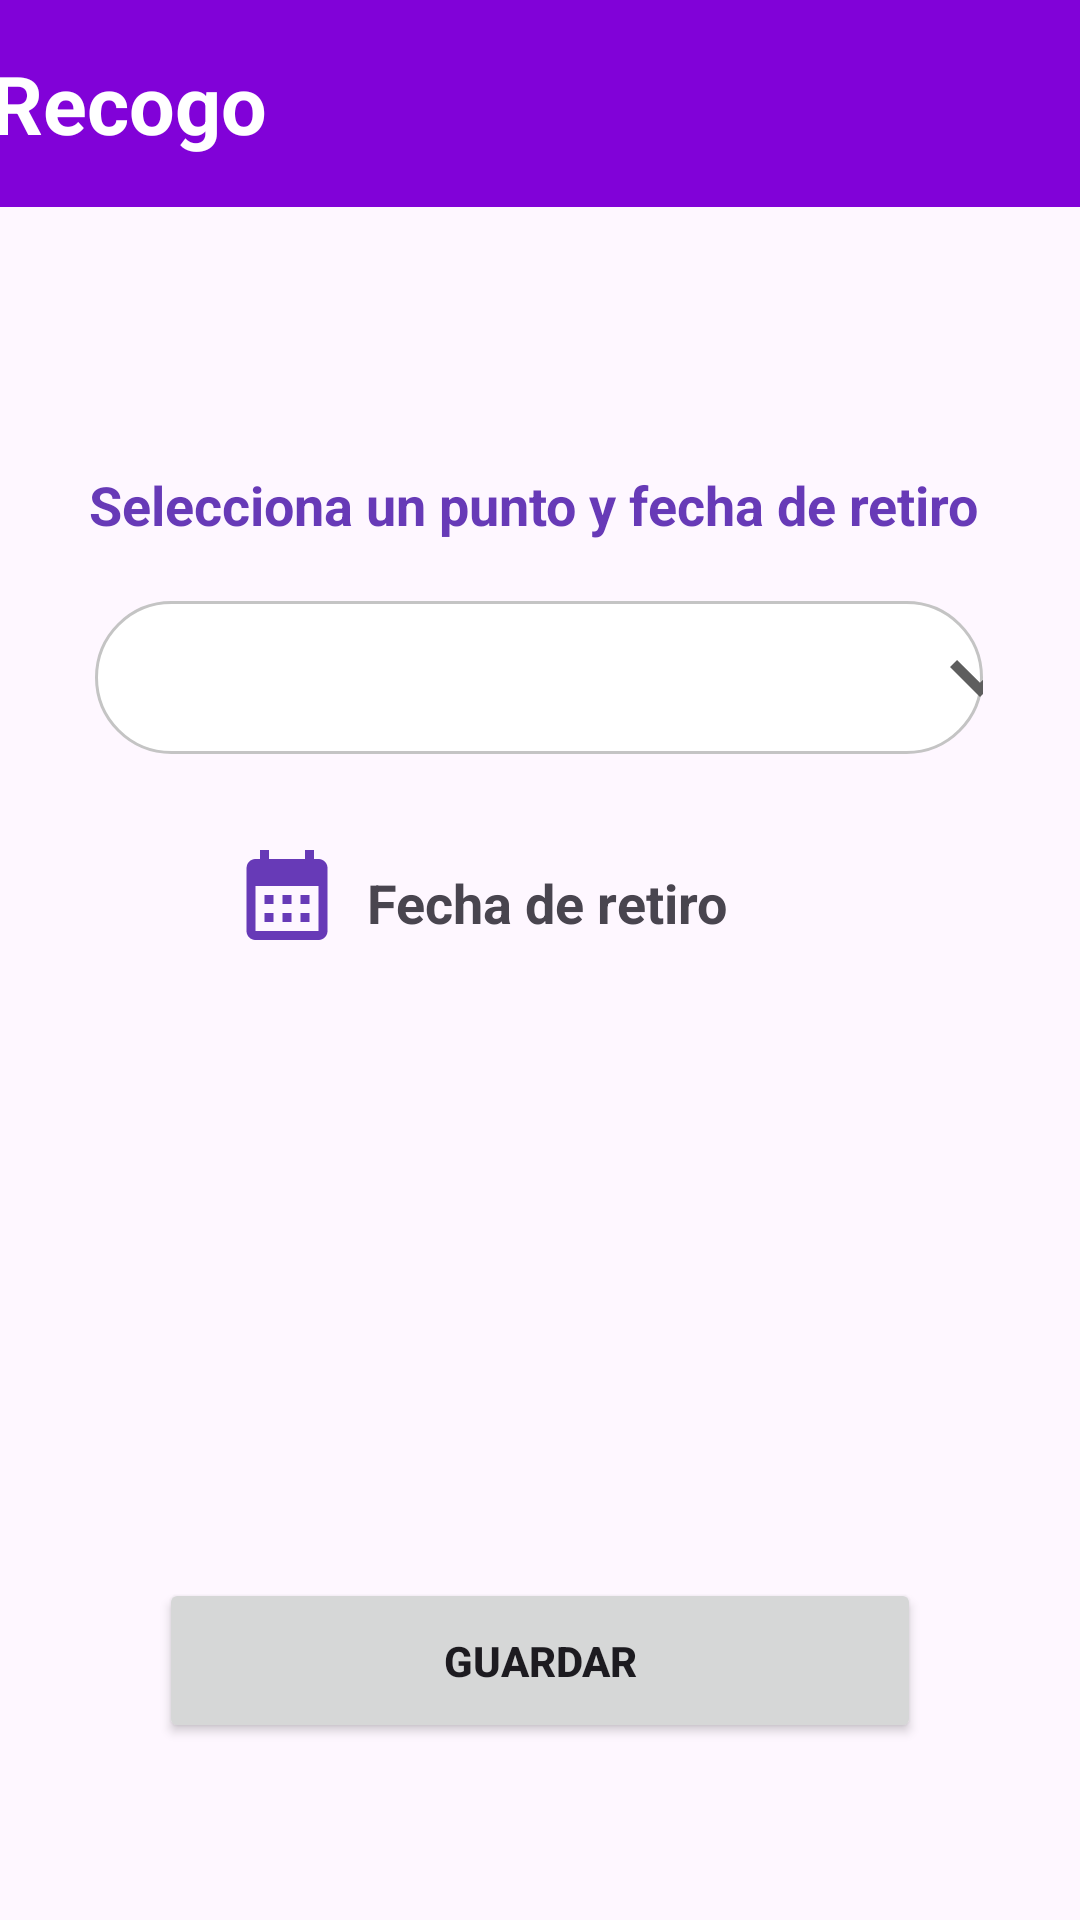

Where to tap for icons on this 1080 × 1920 app screen, as (x,y):
Calendario: (287,895)
